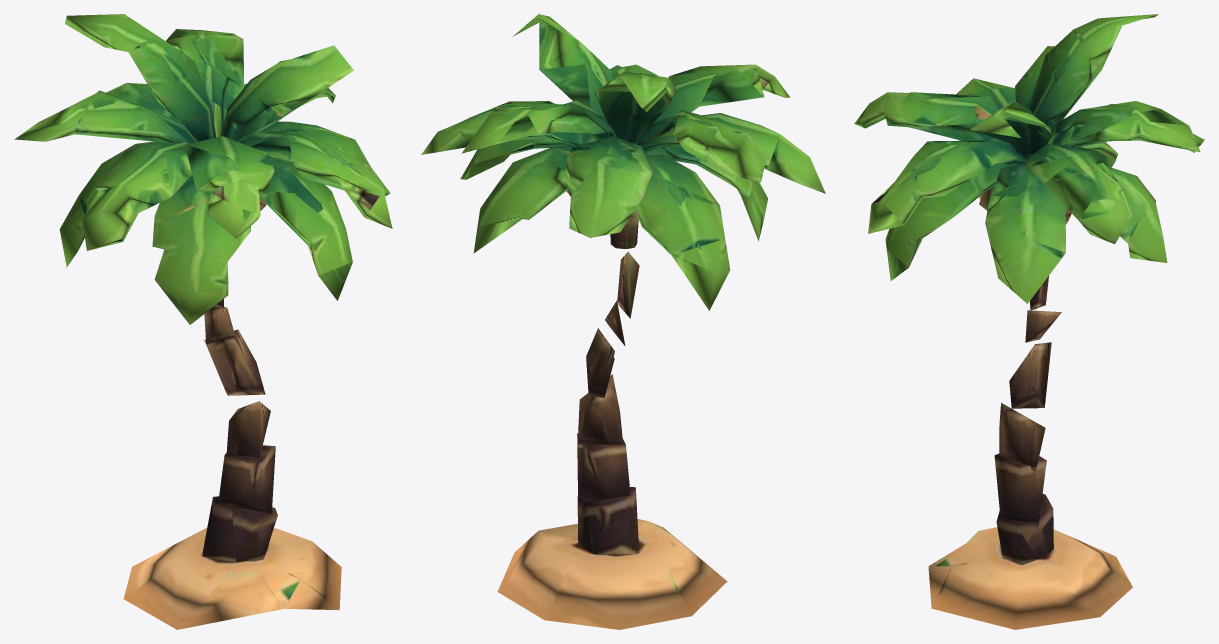
The model's file is palm_a.glb.
3 views of the same model, side by side, from view 1: azimuth 30°, elevation 25°; view 2: azimuth 150°, elevation 25°; view 3: azimuth 270°, elevation 25° (orthographic). The views are drawn at different scales.
Bounding box in the file's own units: 0.6262 × 0.9902 × 0.5956.
1 material, 1 textured.
